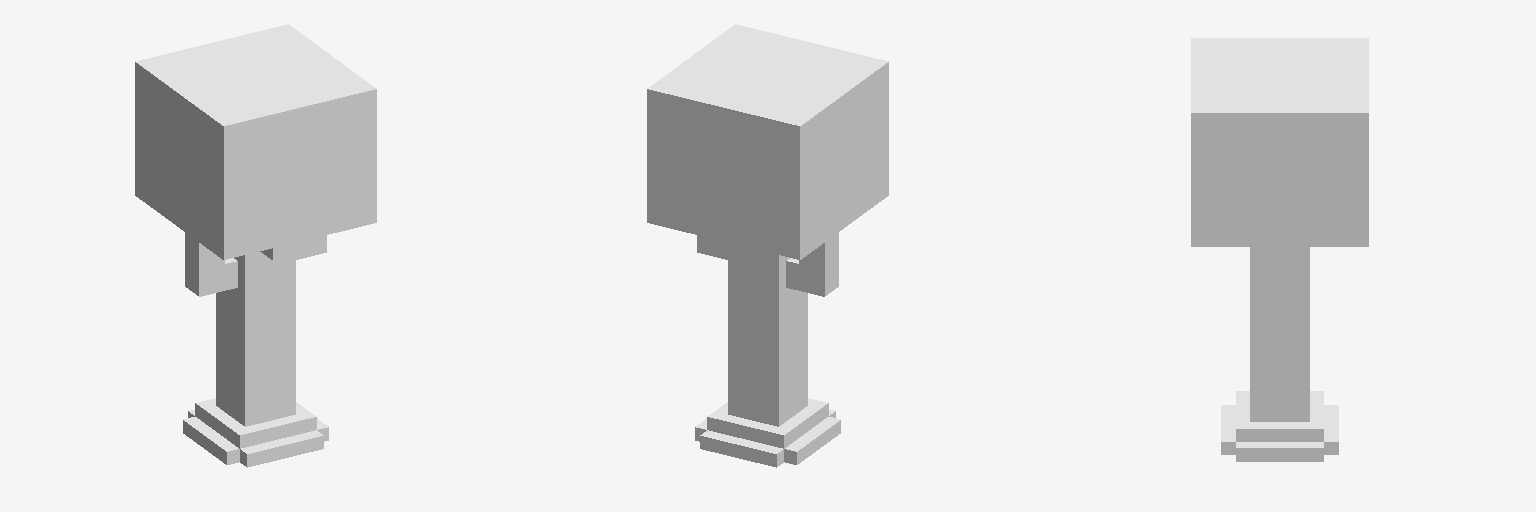
The model's file is Trees-6.obj.
3 renders of one model, left to right at view 1: azimuth 30°, elevation 25°; view 2: azimuth 150°, elevation 25°; view 3: azimuth 270°, elevation 25°, orthographic.
Visible parts, largest first — view 1: object 1; view 2: object 1; view 3: object 1.
Part boxes in pixels (bbox=[...]): object 1: bbox=[135, 24, 376, 467]; object 1: bbox=[647, 24, 888, 467]; object 1: bbox=[1191, 38, 1368, 461].
Size of the model in its own units: 1.2 by 2.7 by 1.2.